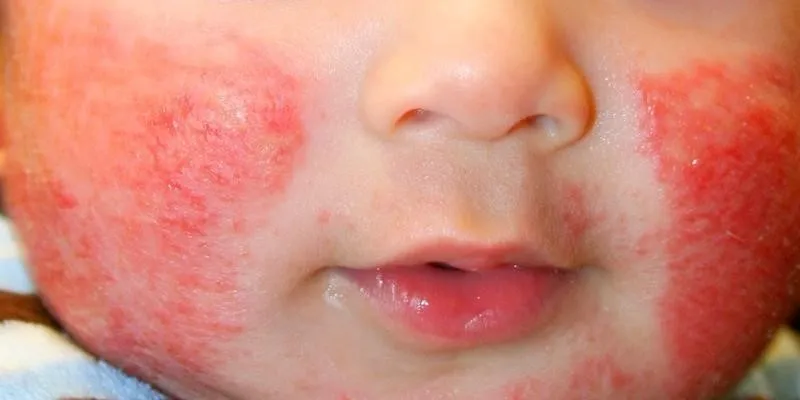Eksim: (8, 27, 324, 378), (615, 38, 800, 400)
